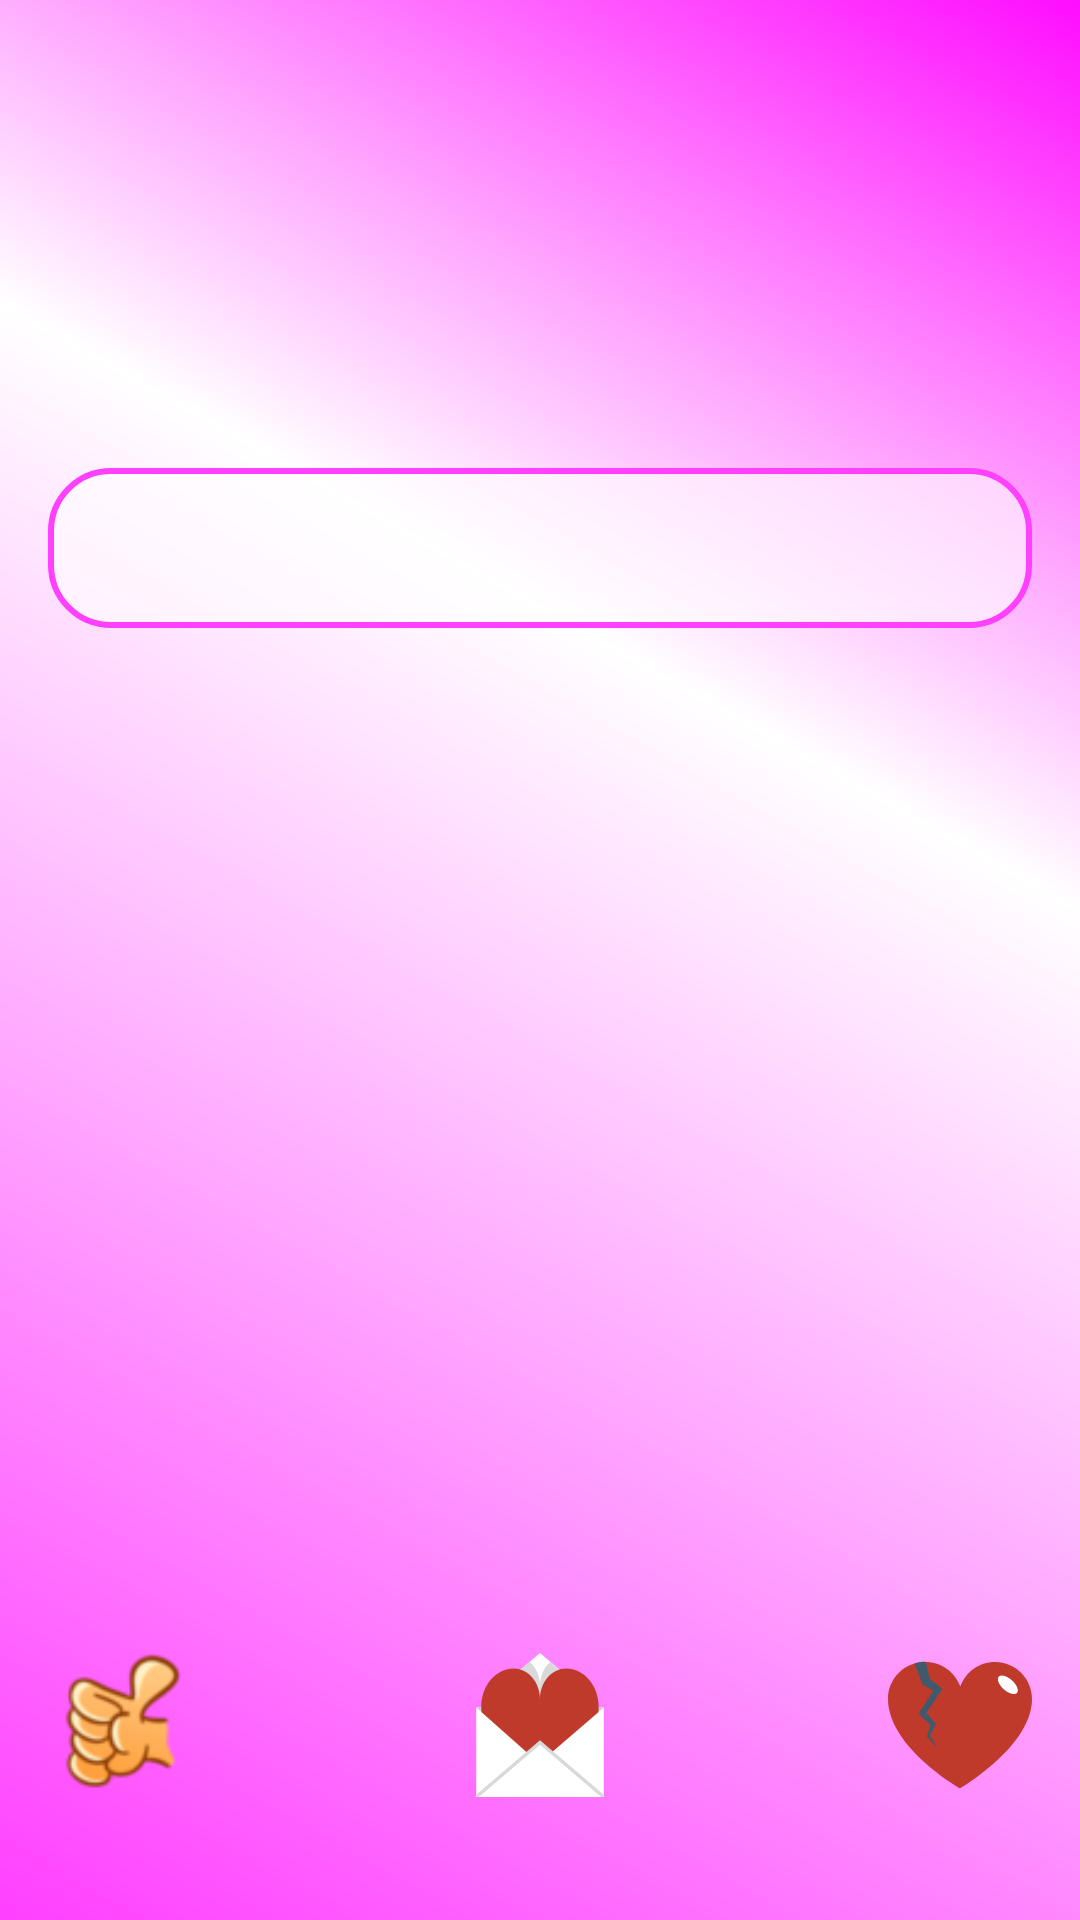

Where icons sit on this 1080w x 1920h app screen, as (left=x1, top=y1, right=x2, bottom=y2):
Hate compliment: (left=888, top=1661, right=1032, bottom=1789)
Like compliment: (left=65, top=1654, right=181, bottom=1788)
SMS: (left=476, top=1653, right=604, bottom=1797)
